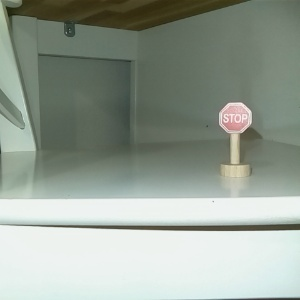stop sign: (216, 100, 254, 179)
